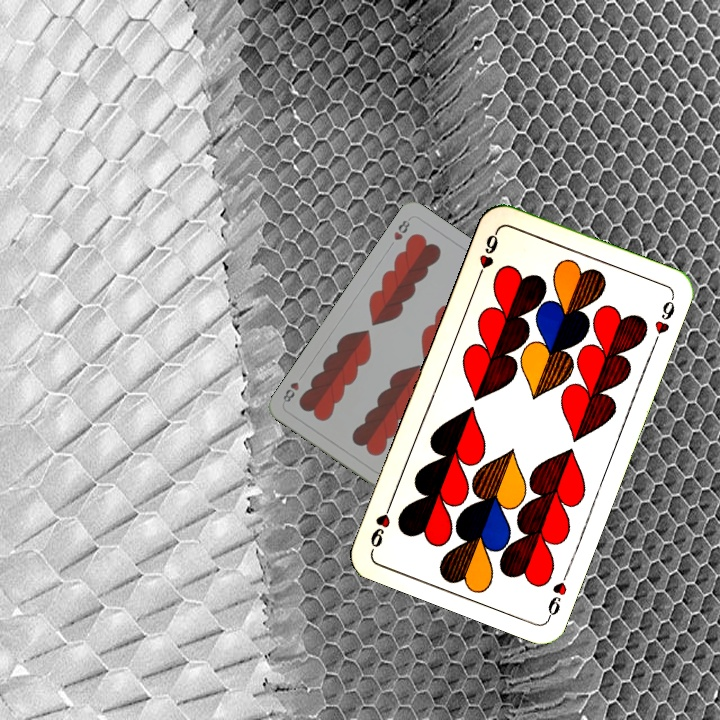H8: (389, 214, 413, 243)
H9: (543, 564, 572, 621), (473, 226, 501, 283)
